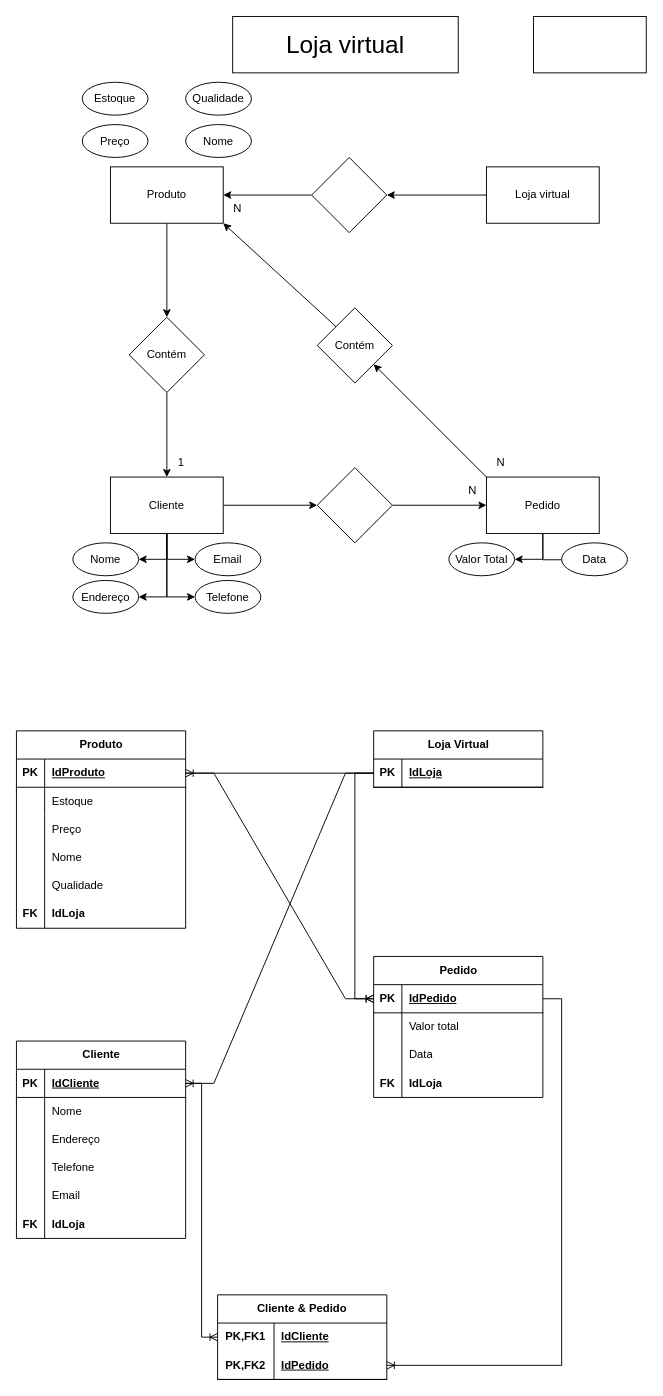
Image size: 663x1396. Some labels were removed from this diagram. The shapes that lost their labels are listed below. From the top down, each one's centre as x and y in pixels, then its label:
the point at 589,44: Ivan e Isabella
the point at 349,195: Possui
the point at 354,505: Fez
